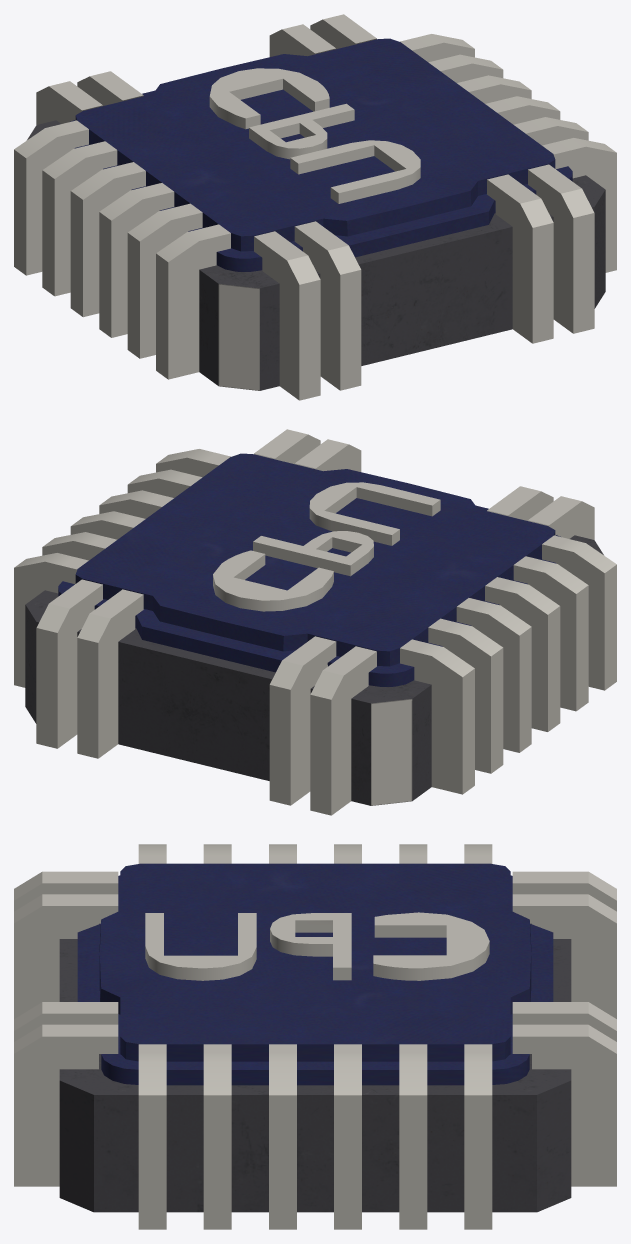
File: cpu.obj
3 views of the same model, one above another, from view 1: azimuth 30°, elevation 25°; view 2: azimuth 150°, elevation 25°; view 3: azimuth 270°, elevation 25° (orthographic). The views are drawn at different scales.
Visible parts, largest first — view 1: Plane.001_low, Plane.002_low, Plane.003_low, Plane_low, CPU_low; view 2: Plane.001_low, Plane.002_low, Plane.003_low, Plane_low, CPU_low; view 3: Plane.001_low, Plane_low, Plane.003_low, Plane.002_low, CPU_low.
Part boxes in pixels (bbox=[...]): Plane.001_low: bbox=[70, 38, 572, 271]; Plane.002_low: bbox=[14, 34, 616, 379]; Plane.003_low: bbox=[36, 14, 594, 400]; Plane_low: bbox=[26, 120, 605, 390]; CPU_low: bbox=[209, 68, 420, 203]; Plane.001_low: bbox=[58, 453, 560, 686]; Plane.002_low: bbox=[14, 449, 616, 794]; Plane.003_low: bbox=[36, 429, 594, 815]; Plane_low: bbox=[25, 535, 603, 805]; CPU_low: bbox=[213, 482, 440, 611]; Plane.001_low: bbox=[77, 863, 553, 1085]; Plane_low: bbox=[59, 923, 571, 1212]; Plane.003_low: bbox=[14, 871, 616, 1186]; Plane.002_low: bbox=[138, 844, 492, 1229]; CPU_low: bbox=[145, 912, 489, 980].
Size of the model in its own units: 0.862 by 0.2605 by 0.8751.
